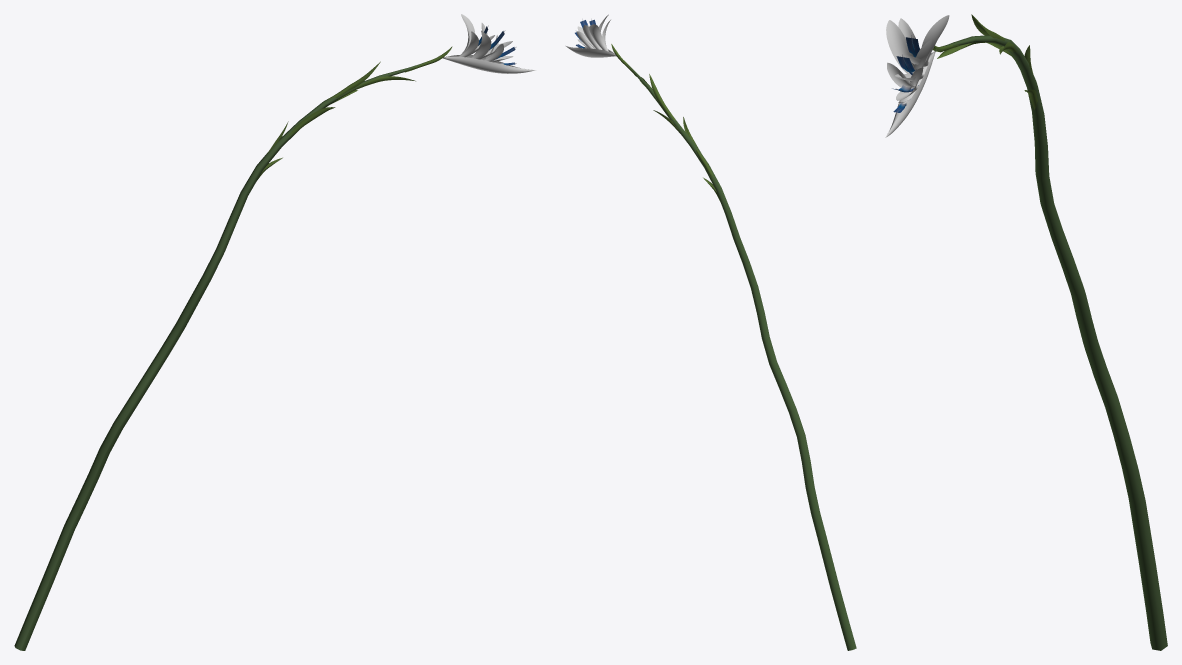
File: strelitziaplant.fbx
3 views of the same model, side by side, from view 1: azimuth 30°, elevation 25°; view 2: azimuth 150°, elevation 25°; view 3: azimuth 270°, elevation 25° (orthographic). The views are drawn at different scales.
Visible parts, largest first — view 1: Strelitzia_r__A001.002; view 2: Strelitzia_r__A001.002; view 3: Strelitzia_r__A001.002.
Part boxes in pixels (x1,y1,x2,y2): Strelitzia_r__A001.002: (14,14,535,650); Strelitzia_r__A001.002: (566,14,856,650); Strelitzia_r__A001.002: (885,14,1167,650).
Bounding box in the file's own units: 980 × 1292 × 364.
